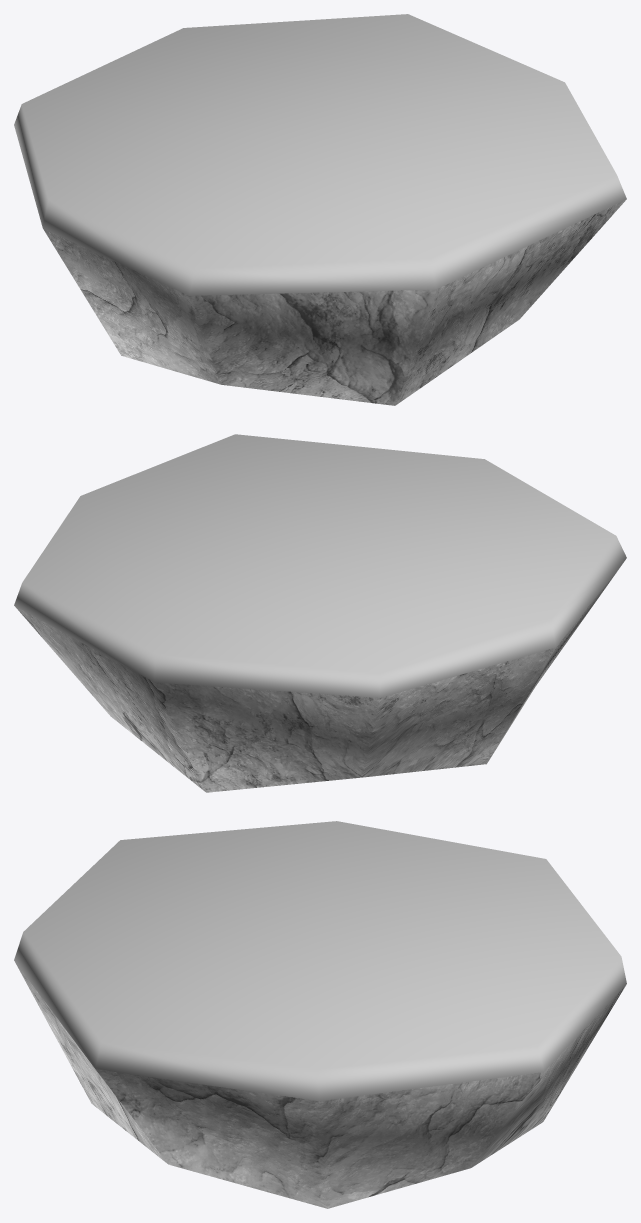
The model's file is NaturePlatform_02.fbx.
3 views of the same model, one above another, from view 1: azimuth 30°, elevation 25°; view 2: azimuth 150°, elevation 25°; view 3: azimuth 270°, elevation 25° (orthographic). The views are drawn at different scales.
Parts seen in each view (by area): view 1: NaturePlatform_02; view 2: NaturePlatform_02; view 3: NaturePlatform_02.
Part boxes in pixels (x1=…): NaturePlatform_02: x1=14, y1=14, x2=626, y2=405; NaturePlatform_02: x1=14, y1=434, x2=626, y2=792; NaturePlatform_02: x1=14, y1=821, x2=626, y2=1208.
Size of the model in its own units: 2935 by 1232 by 2984.
